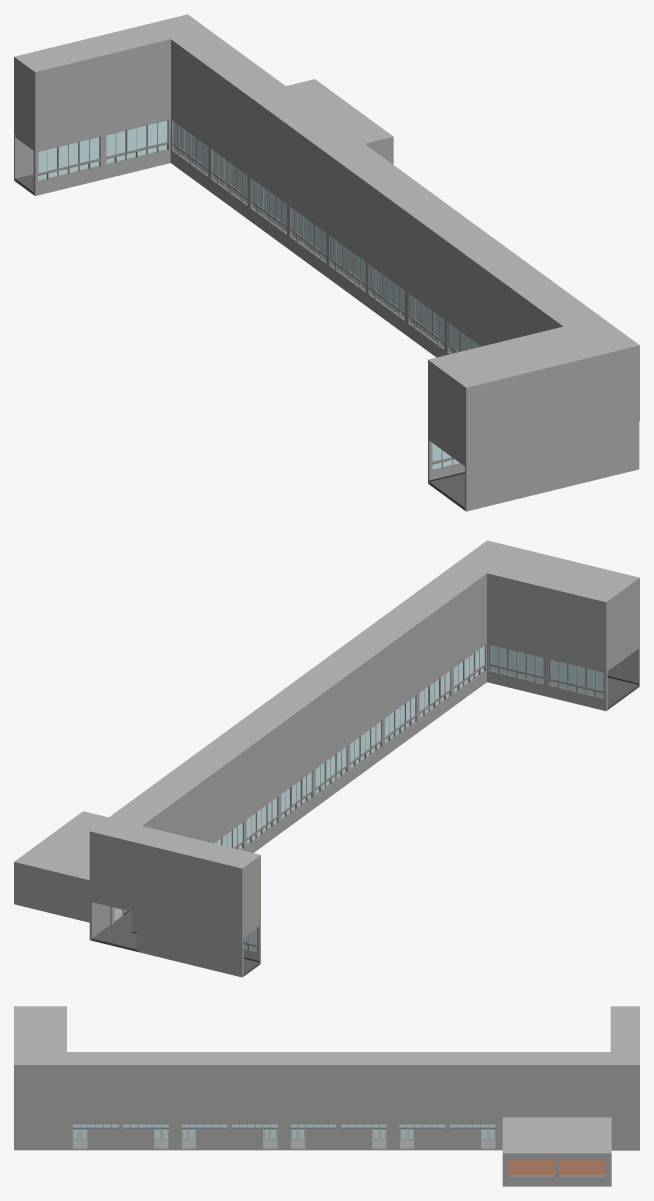
File: hallway-school.glb
3 renders of one model, top to bottom at view 1: azimuth 30°, elevation 25°; view 2: azimuth 150°, elevation 25°; view 3: azimuth 270°, elevation 25°, orthographic. The views are drawn at different scales.
Size of the model in its own units: 21.32 by 9.01 by 59.54.
